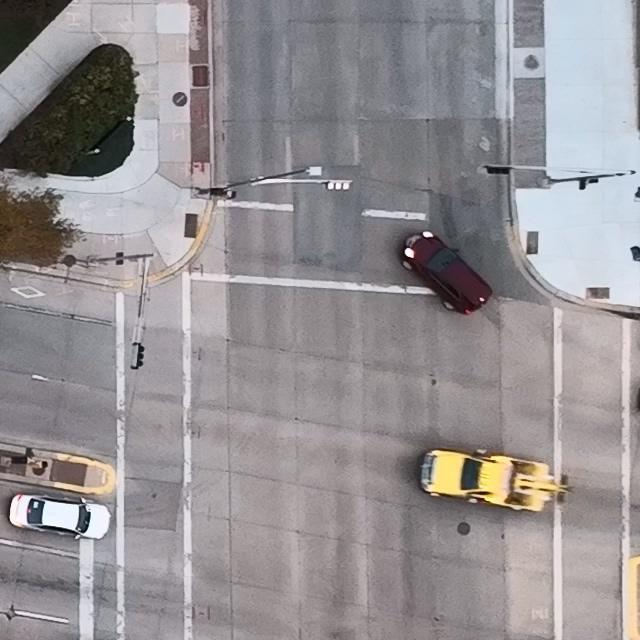car: (418, 450, 558, 514), (400, 230, 492, 314), (9, 493, 111, 541)
